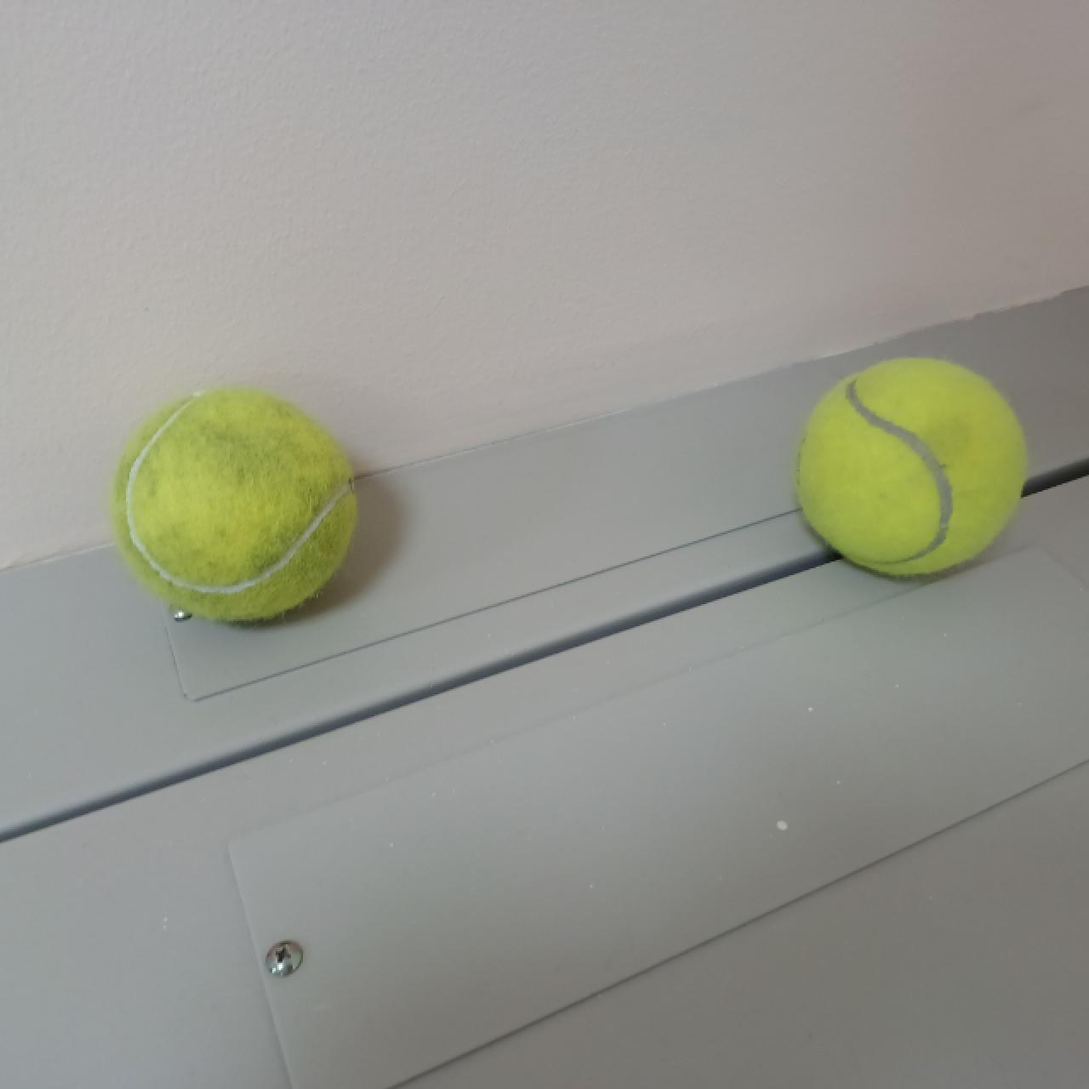tennis-ball: (110, 383, 362, 625), (795, 354, 1027, 580)
